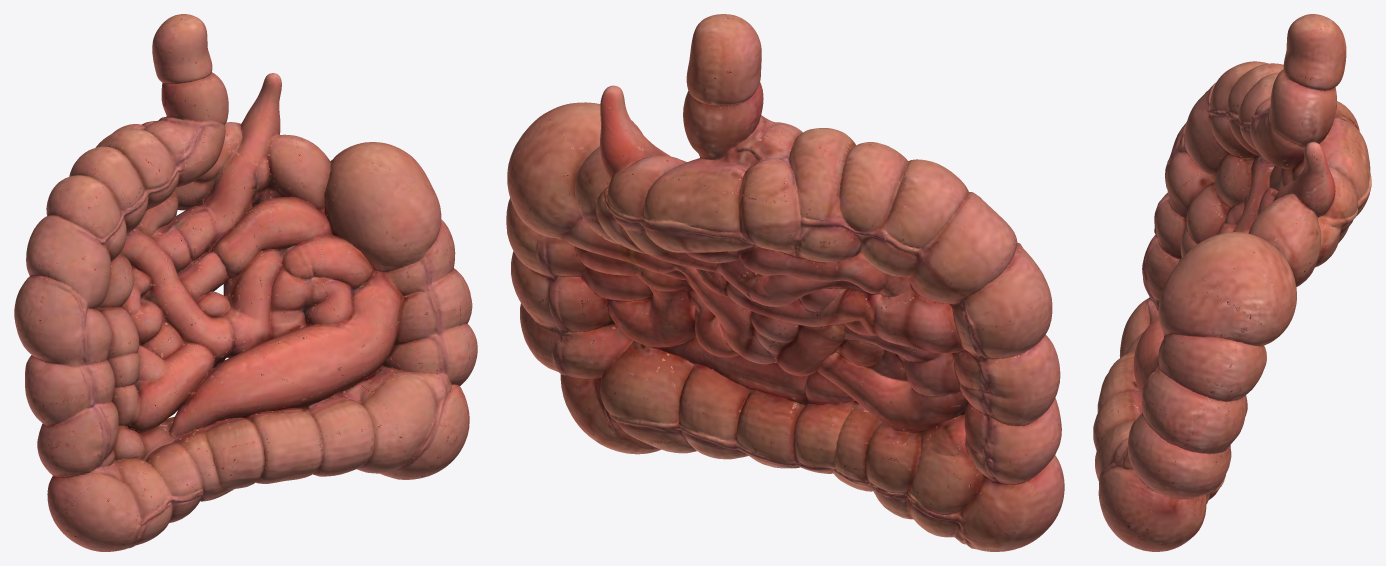
Rendered from Appendix.glb.
3 renders of one model, left to right at view 1: azimuth 30°, elevation 25°; view 2: azimuth 150°, elevation 25°; view 3: azimuth 270°, elevation 25°, orthographic. The views are drawn at different scales.
Parts seen in each view (by area): view 1: appendix; view 2: appendix; view 3: appendix.
Boxes of the visible parts, box(x1,y1,x2,y2) form: appendix: box(14, 14, 477, 551); appendix: box(506, 14, 1064, 551); appendix: box(1093, 14, 1371, 551).
Size of the model in its own units: 2 by 1.94 by 1.07.
Materials: 1 (1 with a texture image).
